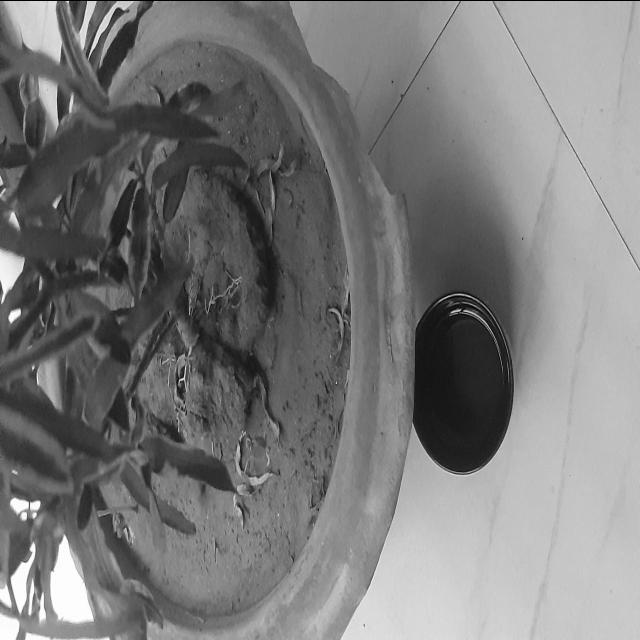Breeding Place: (1, 0, 446, 640), (394, 276, 534, 490)
